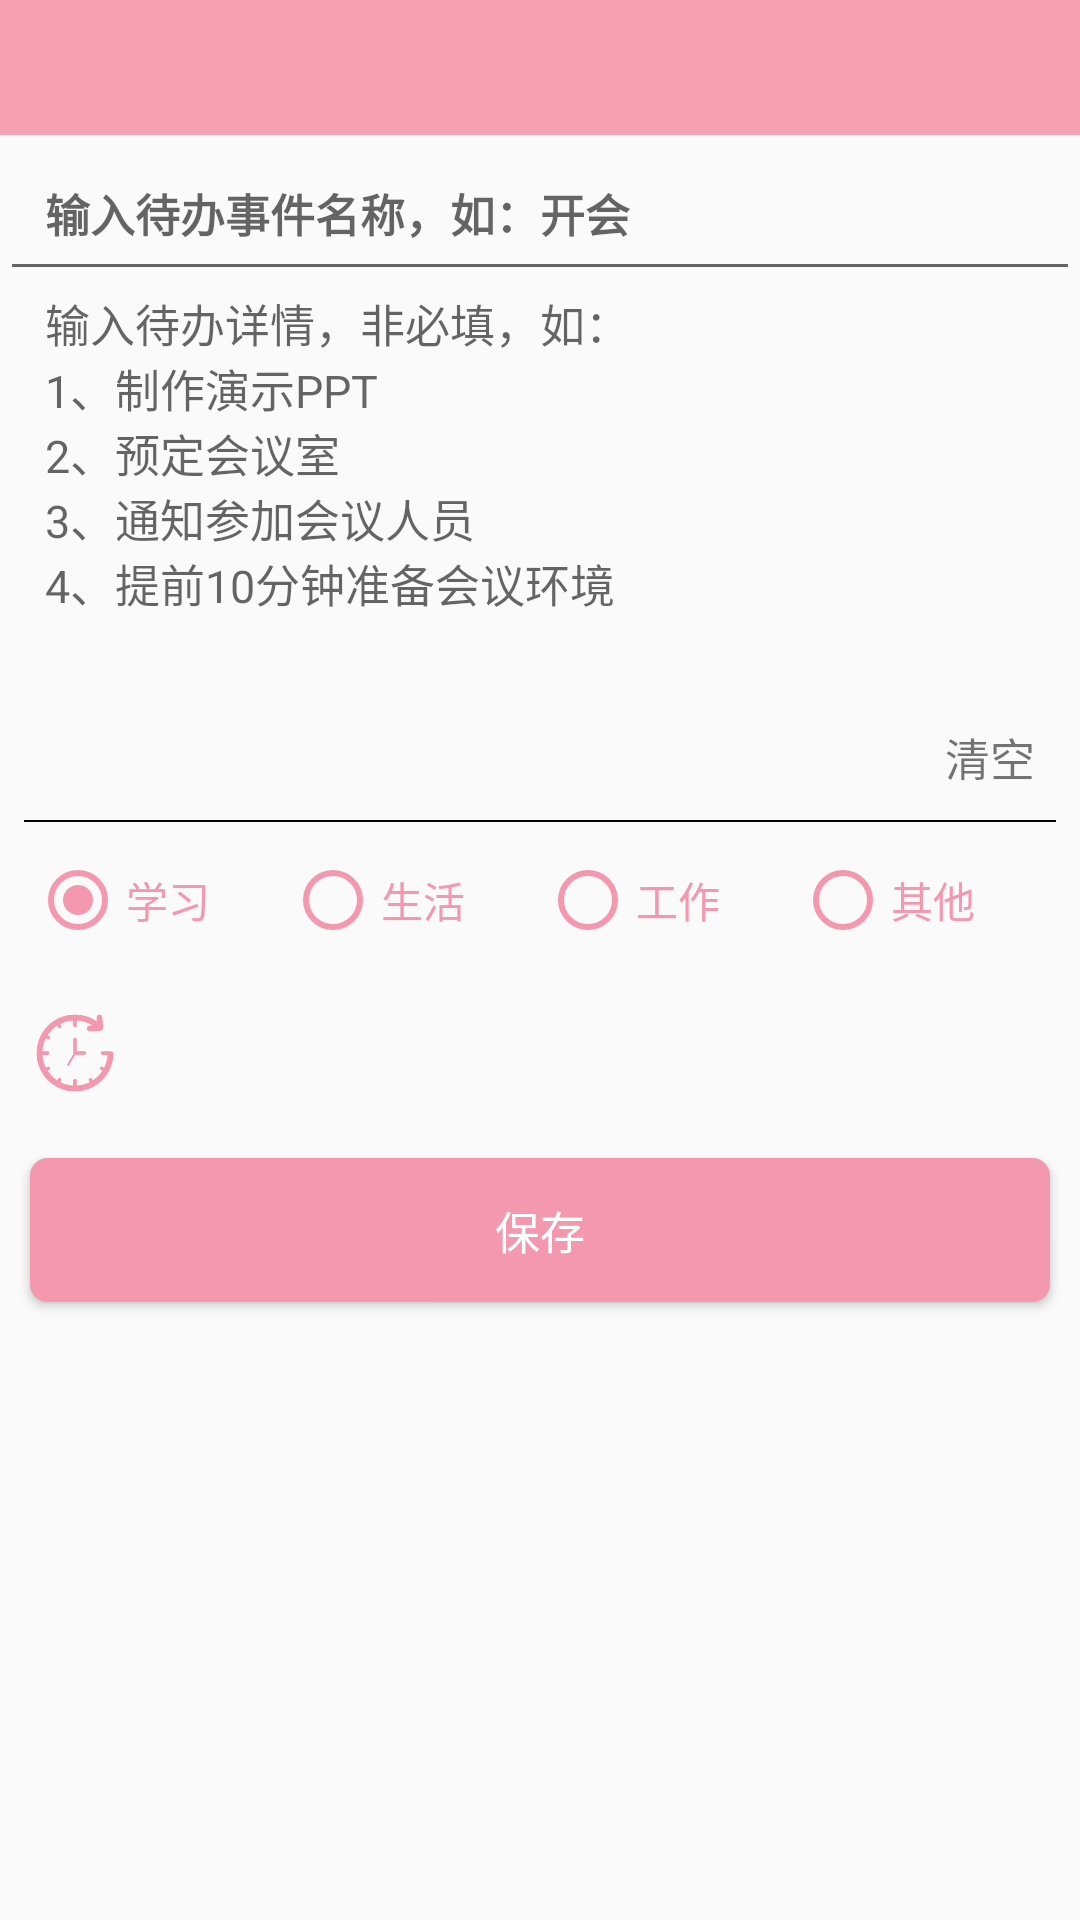

Icon click points for this 1080px×1920px phone screenshot, format (x=x, y=y):
time add: (x=75, y=1053)
